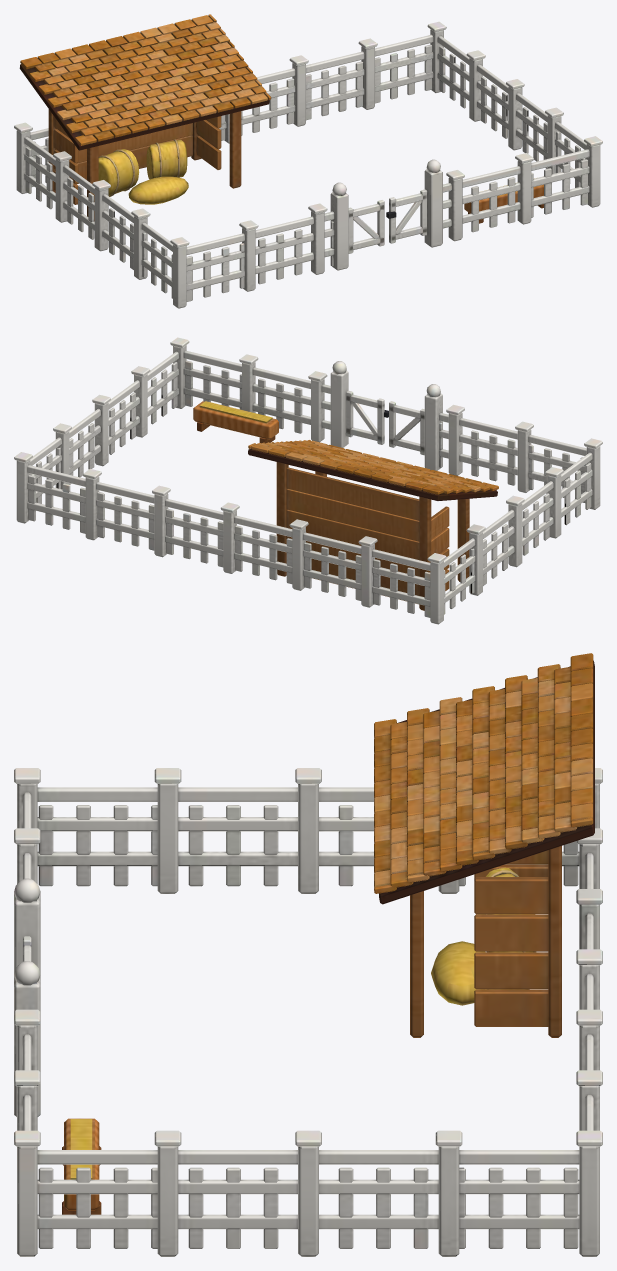
File: guernsey_pasture.glb
3 views of the same model, one above another, from view 1: azimuth 30°, elevation 25°; view 2: azimuth 150°, elevation 25°; view 3: azimuth 270°, elevation 25° (orthographic). The views are drawn at different scales.
Visible parts, largest first — view 1: guernsey_pasture, gate1, gate0; view 2: guernsey_pasture, gate1, gate0; view 3: guernsey_pasture.
Part boxes in pixels (x1=…): guernsey_pasture: x1=14, y1=14, x2=602, y2=308; gate1: x1=386, y1=189, x2=427, y2=243; gate0: x1=348, y1=200, x2=384, y2=253; guernsey_pasture: x1=14, y1=337, x2=602, y2=624; gate1: x1=346, y1=390, x2=388, y2=444; gate0: x1=389, y1=401, x2=424, y2=455; guernsey_pasture: x1=14, y1=653, x2=602, y2=1256.
Bounding box in the file's own units: 2.99 × 0.9342 × 1.99.
1 material, 1 textured.
